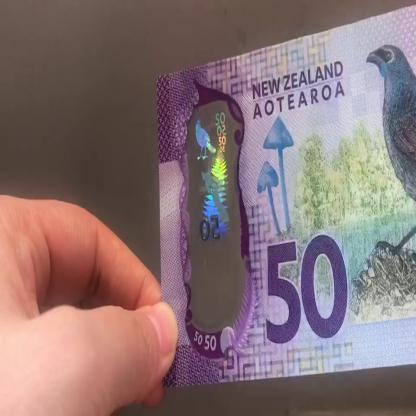50B: (189, 107, 236, 309)
